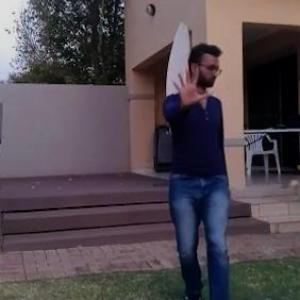follow_hand: (168, 60, 214, 110)
